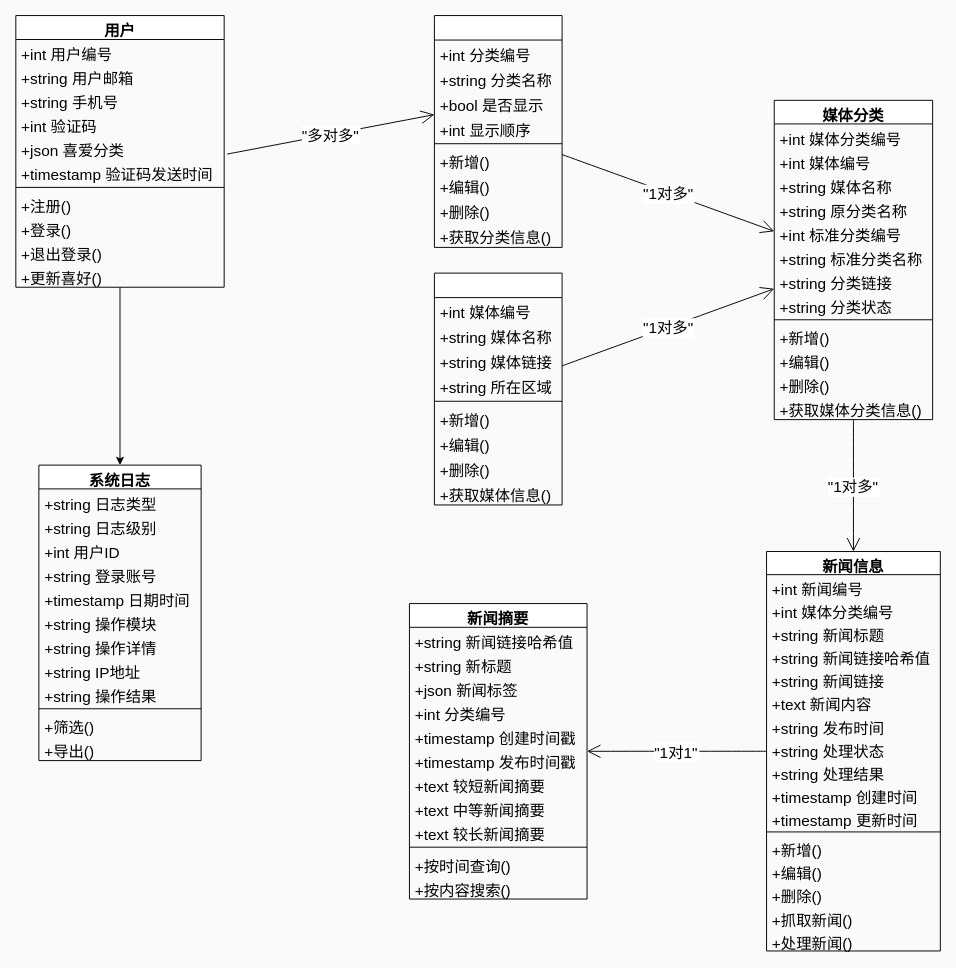
This 956x968 diagram has some shape labels left out. Here are the shapes that lost their labels. From the top down, the box of each, then its label:
(433, 15, 562, 247): 新闻分类
(433, 272, 562, 505): 新闻媒体机构
